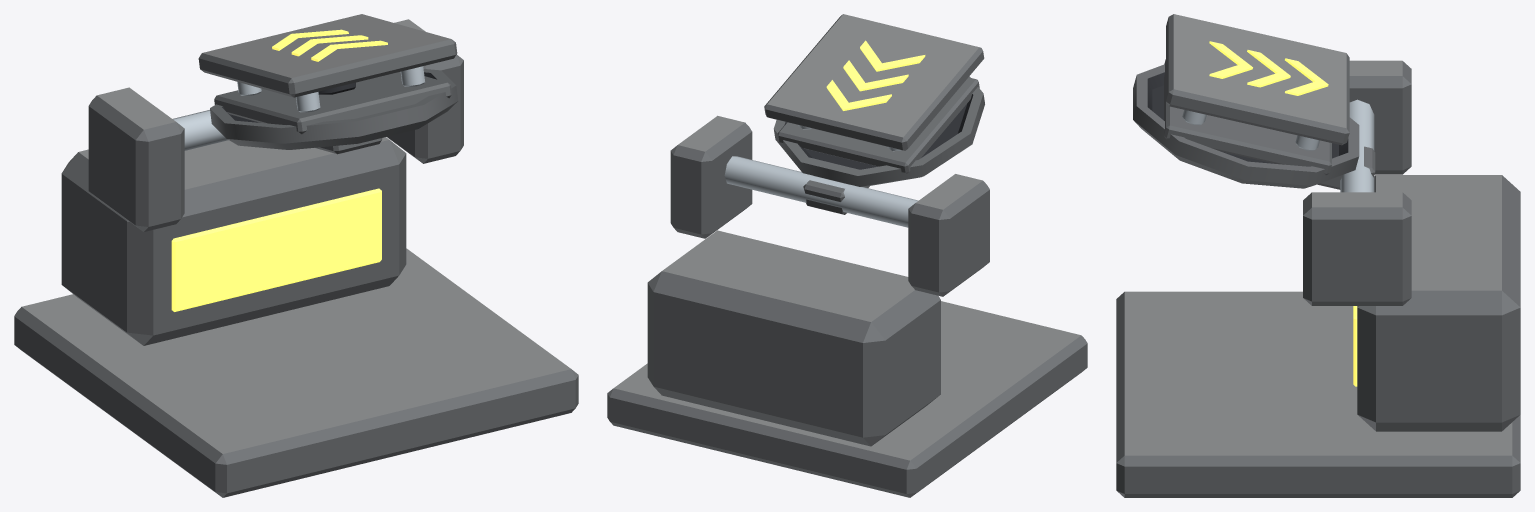
Rendered from R4X_KnockbackTrapDeployer_LOD1.glb.
The picture shows the model from 3 angles, left to right: view 1: azimuth 30°, elevation 25°; view 2: azimuth 150°, elevation 25°; view 3: azimuth 270°, elevation 25°; orthographic projection. The views are drawn at different scales.
Visible parts, largest first — view 1: R4X_KnockbackTrapDeployer_LOD1; view 2: R4X_KnockbackTrapDeployer_LOD1; view 3: R4X_KnockbackTrapDeployer_LOD1.
Part boxes in pixels (bbox=[...]): R4X_KnockbackTrapDeployer_LOD1: bbox=[14, 14, 578, 497]; R4X_KnockbackTrapDeployer_LOD1: bbox=[607, 14, 1087, 497]; R4X_KnockbackTrapDeployer_LOD1: bbox=[1116, 14, 1520, 497].
Bounding box in the file's own units: 0.52 × 0.5171 × 0.52.
